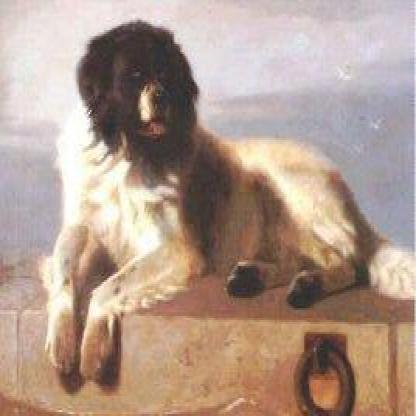Newfoundland: (26, 10, 413, 392)
